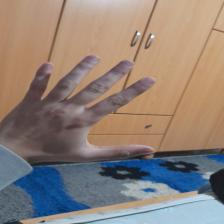five: (7, 54, 174, 162)
